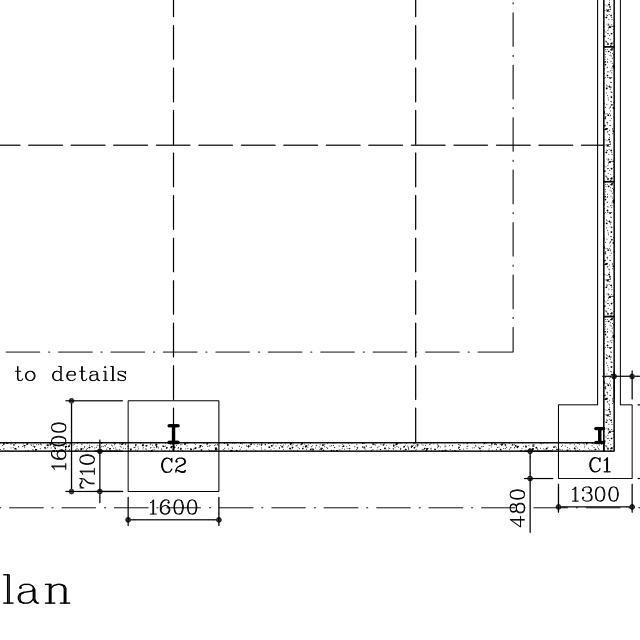C1: (574, 452, 616, 483)
C2: (153, 450, 193, 483)
